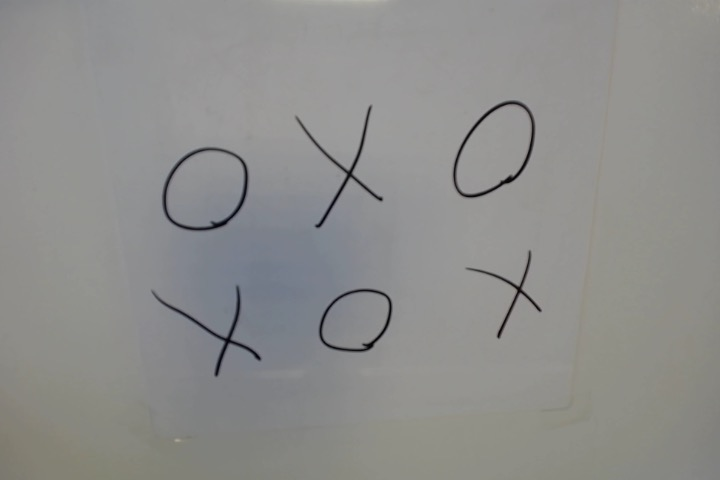0: (448, 94, 540, 208), (155, 142, 253, 240), (315, 277, 396, 364)
x: (139, 274, 267, 383), (293, 102, 391, 230), (458, 247, 551, 345)
